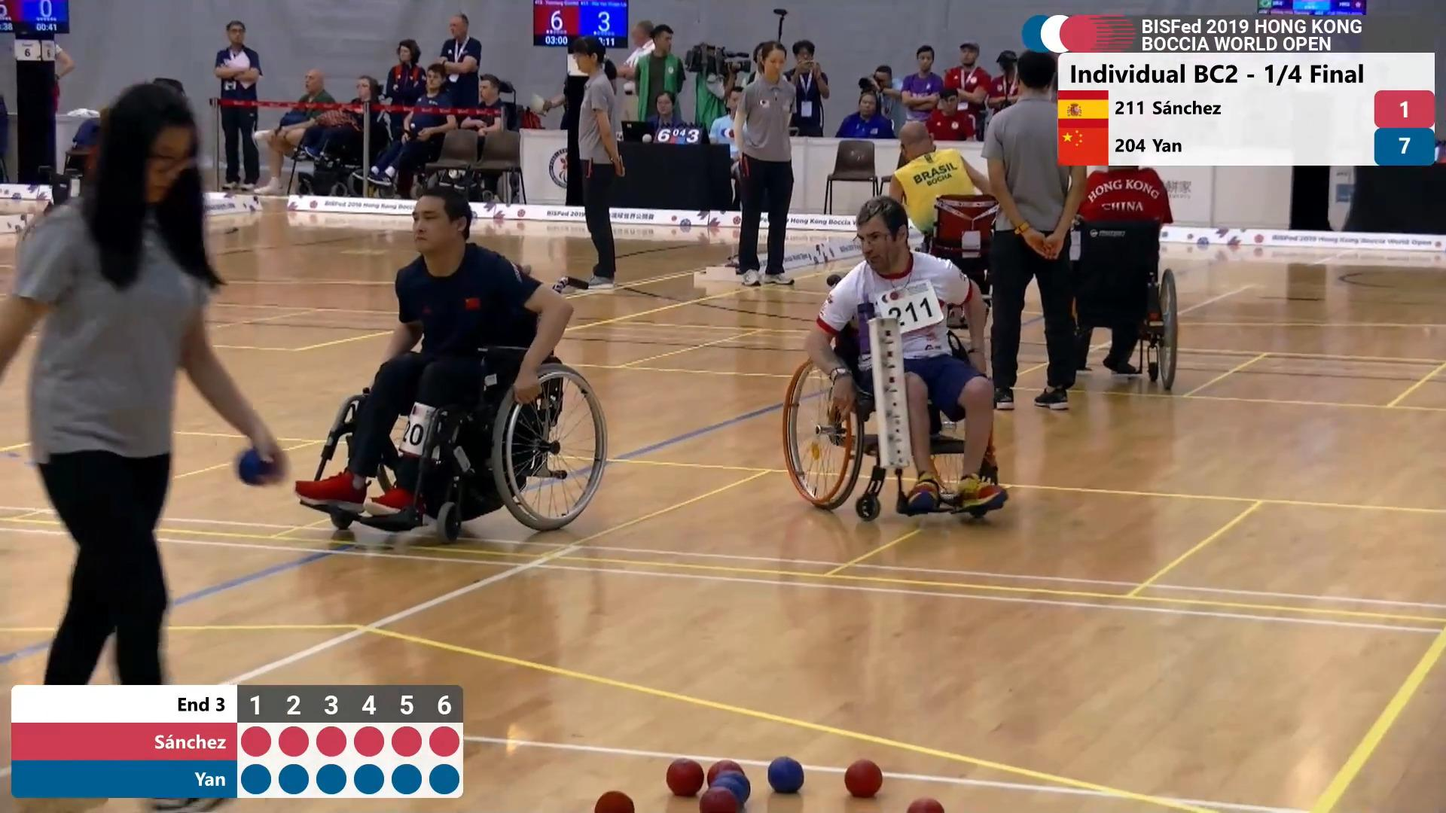blue_ball: (768, 757, 804, 792), (715, 779, 746, 796)
red_ball: (844, 759, 882, 799), (669, 759, 702, 795), (702, 788, 737, 813), (596, 792, 635, 813), (909, 799, 946, 813)
